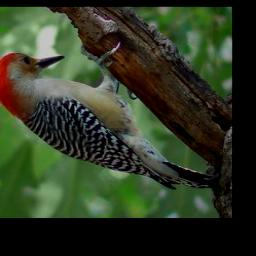Woodpecker: (0, 40, 219, 195)
